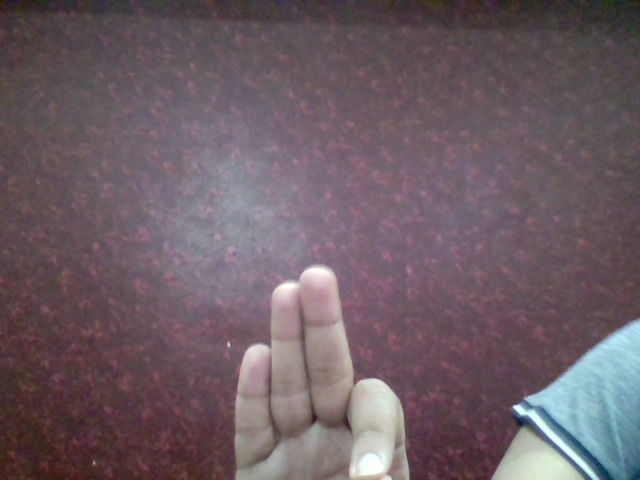f: (213, 259, 421, 480)
